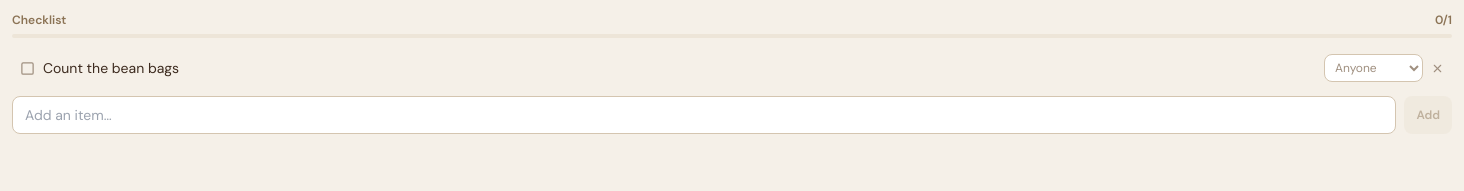
打勾 › rolls the tick back when the write is silently rejected
Click the button named "Toggle \"Count the bean bags\"" at (28, 68), box left=20, top=60, right=35, bottom=76
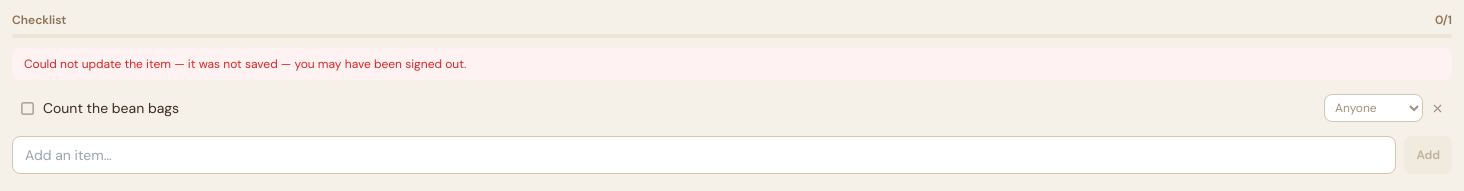
Expected: the text with test id "checklist-count" reads "0/1", left=1435, top=12, right=1452, bottom=28
Result: the text "Could not update the item" is shown at left=24, top=56, right=466, bottom=72
